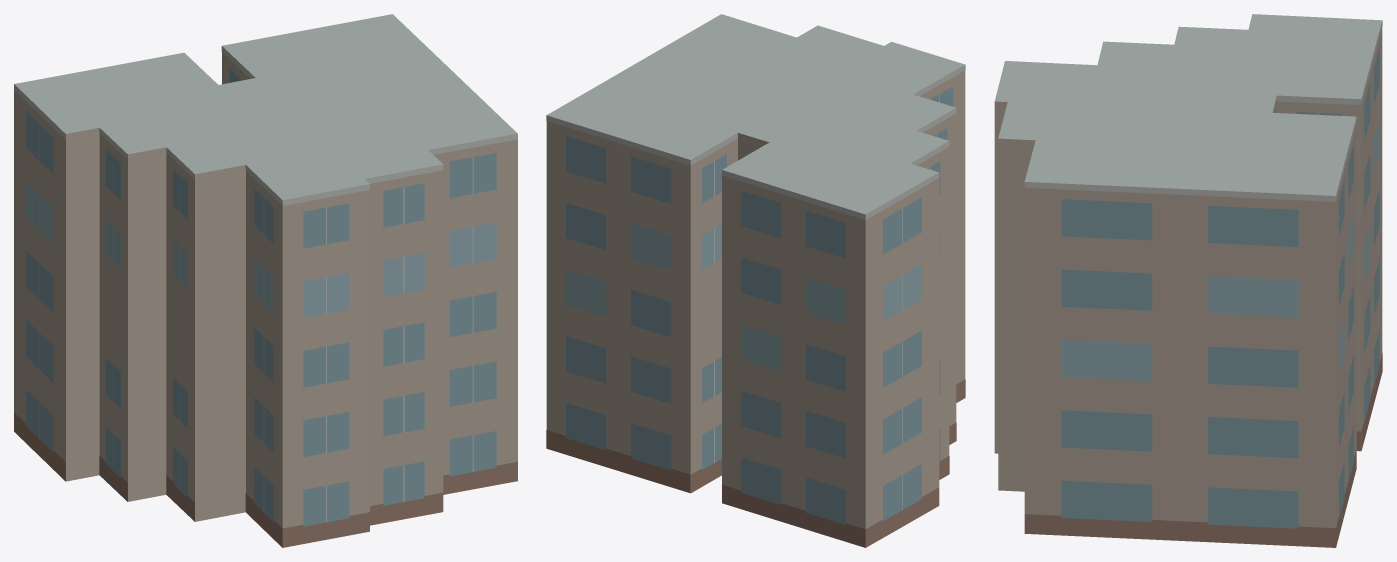
Rendered from survey-upis-32987406.glb.
3 renders of one model, left to right at view 1: azimuth 30°, elevation 25°; view 2: azimuth 150°, elevation 25°; view 3: azimuth 270°, elevation 25°, orthographic. The views are drawn at different scales.
Parts seen in each view (by area): view 1: survey-upis-32987406.tmp; view 2: survey-upis-32987406.tmp; view 3: survey-upis-32987406.tmp.
Part boxes in pixels (box(x1,y1,x2,y2)): survey-upis-32987406.tmp: box(14, 14, 517, 547); survey-upis-32987406.tmp: box(546, 14, 965, 547); survey-upis-32987406.tmp: box(994, 14, 1382, 547).
Bounding box in the file's own units: 16.09 × 14.5 × 14.49.
